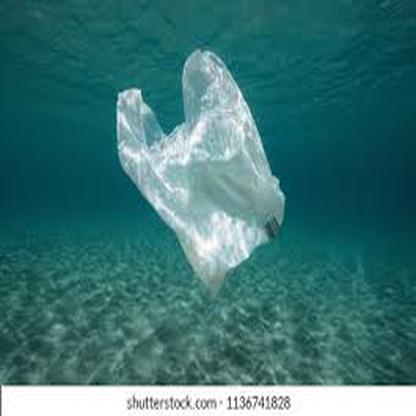plastic bag: (116, 48, 287, 296)
